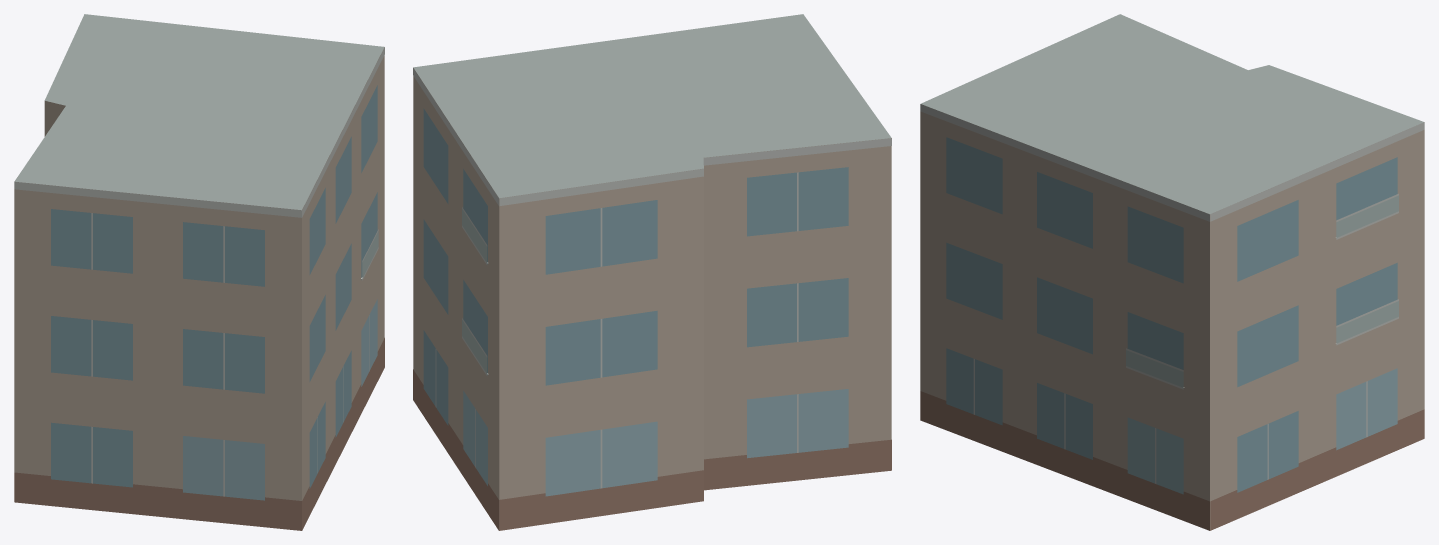
The model's file is survey-upis-32526039.glb.
The picture shows the model from 3 angles, left to right: view 1: azimuth 30°, elevation 25°; view 2: azimuth 150°, elevation 25°; view 3: azimuth 270°, elevation 25°; orthographic projection. The views are drawn at different scales.
Visible parts, largest first — view 1: survey-upis-32526039.tmp; view 2: survey-upis-32526039.tmp; view 3: survey-upis-32526039.tmp.
Boxes of the visible parts, x1,y1,x2,y2 form: survey-upis-32526039.tmp: (14, 14, 384, 530); survey-upis-32526039.tmp: (413, 14, 891, 530); survey-upis-32526039.tmp: (920, 14, 1424, 530).
Size of the model in its own units: 13.85 by 10.2 by 14.73.
